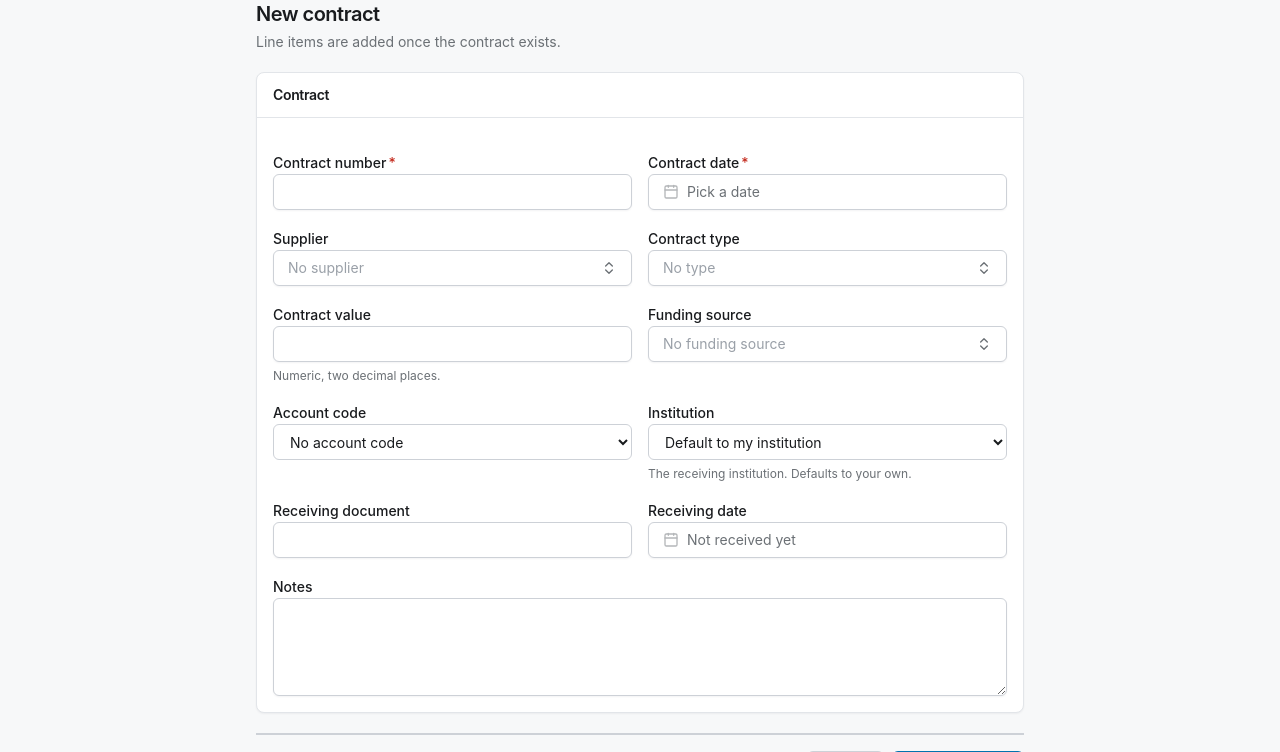
Scenario: ContractFormPage › creates a missing contract type without losing the form
# Type into the parent form FIRST — this is what used to be lost.
Step 1. Type "SPK/2026/999" into the field labelled "Contract number*" → (452,192), box [273,174,632,210]
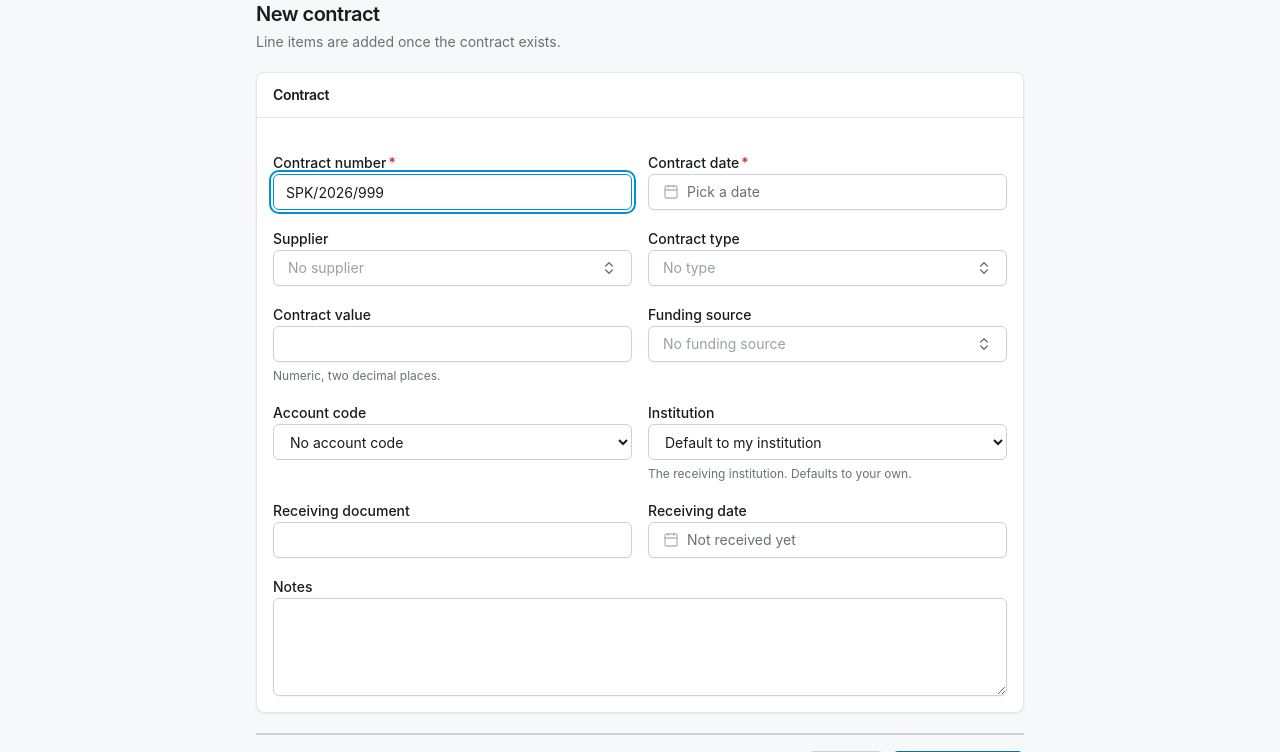
Step 2. Click the dropdown named "contract type" → (689,268), box [648,250,1007,286]
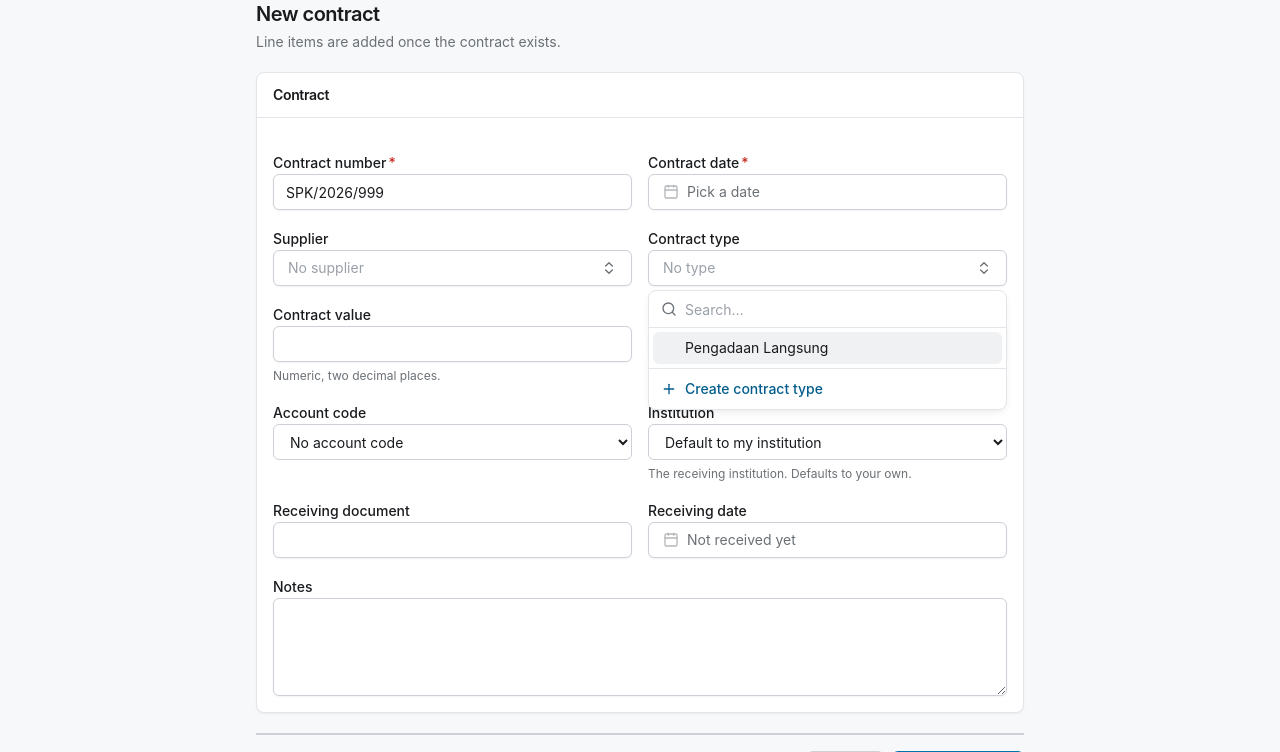
Step 3. Click the button "Create contract type" → (754,388), box [653,373,1002,405]
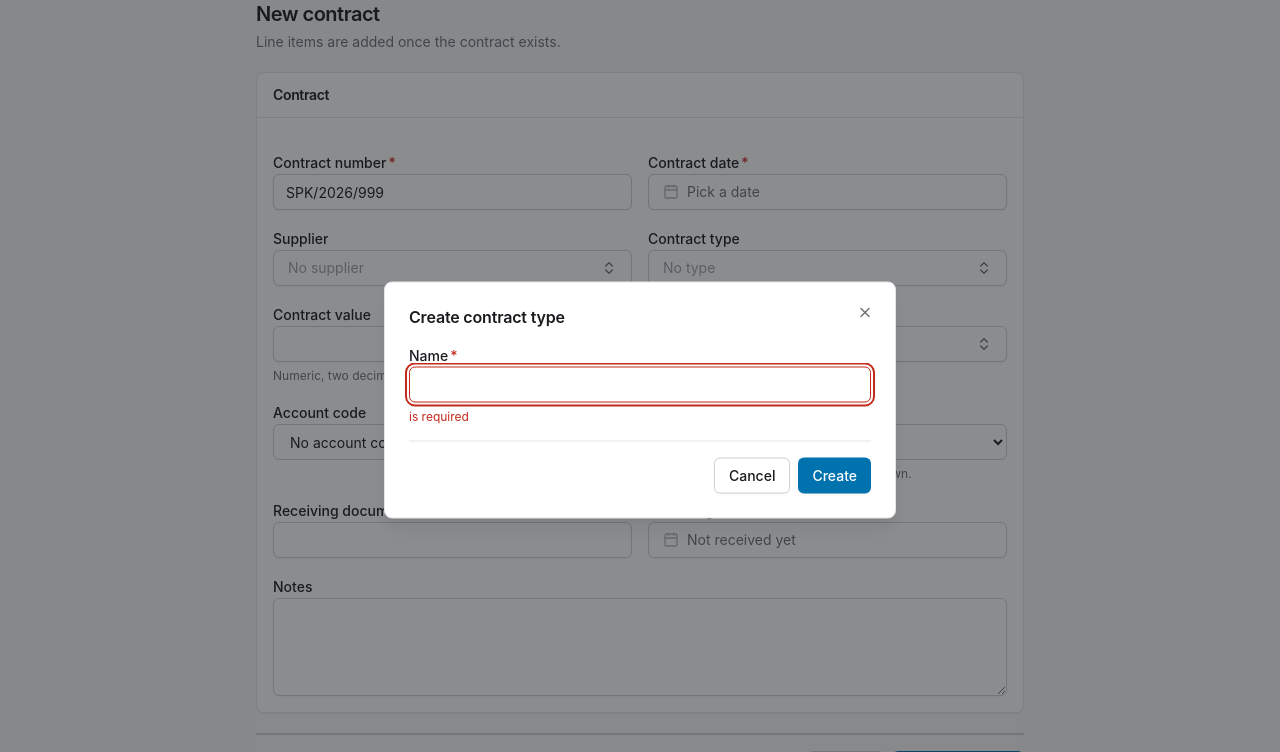
Step 4. Type "Swakelola" into the field labelled "Name*" → (640,384), box [409,366,871,402]
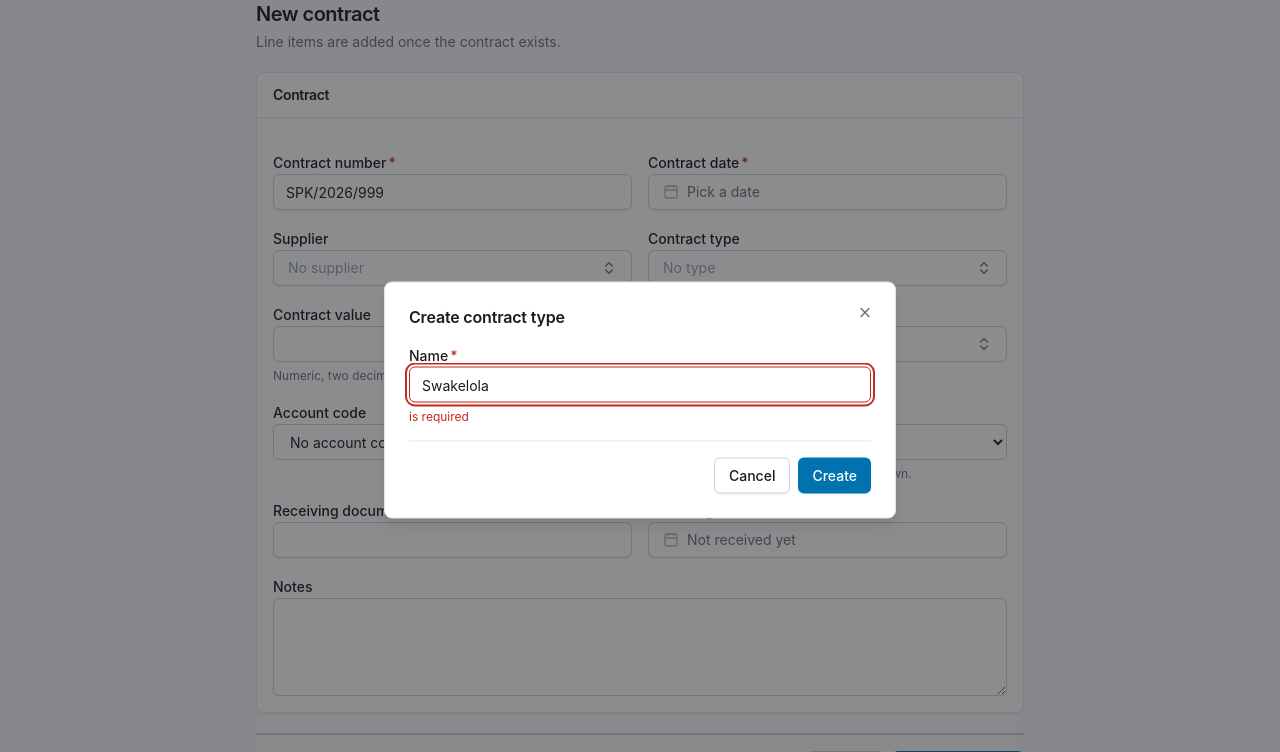
Step 5. Click the button "Create" → (835,476), box [798,458,871,494]
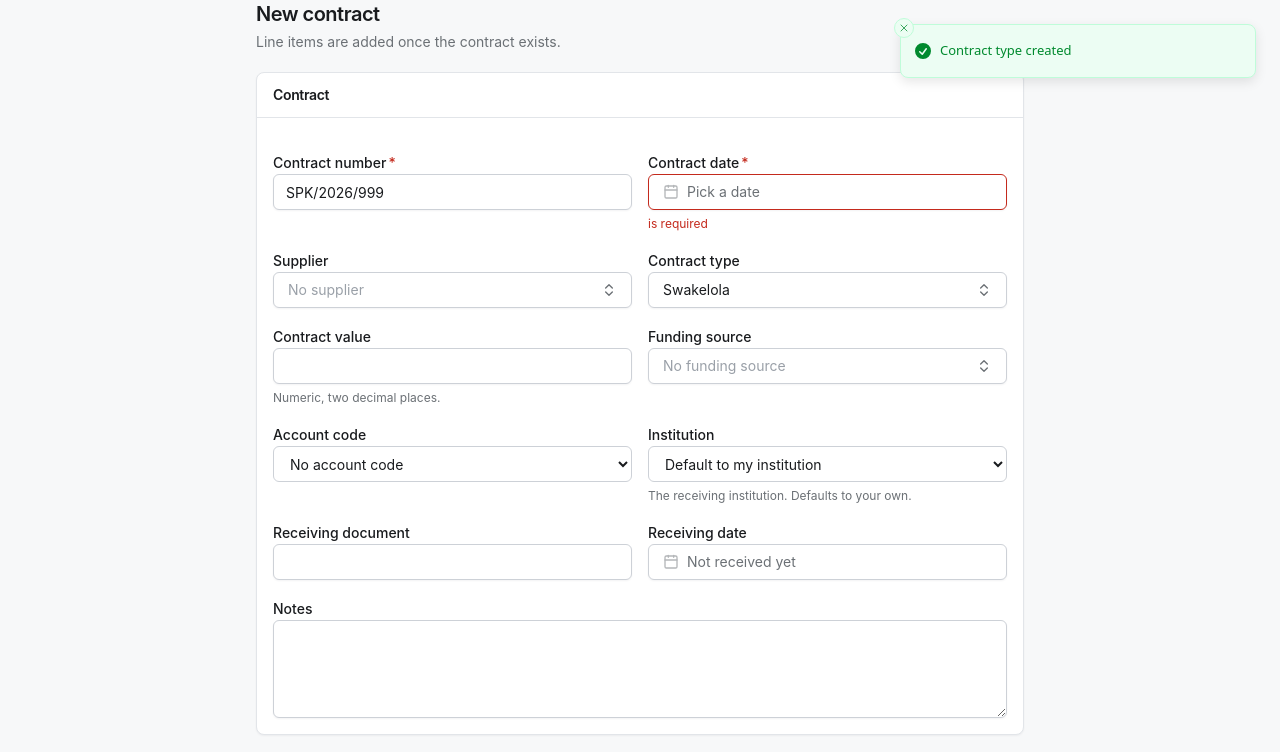
Check: the dropdown named "contract type" reads "Swakelola", box [648,272,1007,308]
